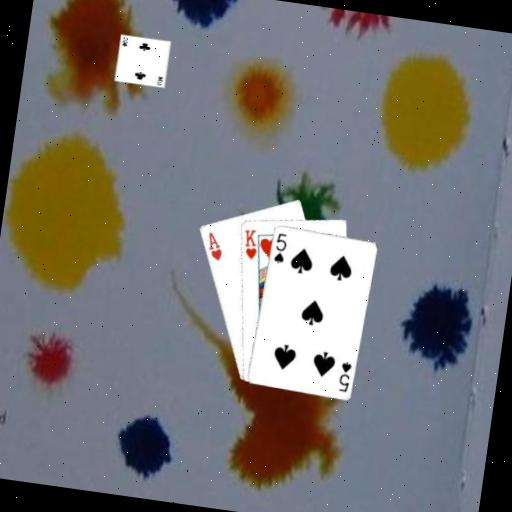5S: (270, 229, 290, 265), (334, 358, 354, 394)
AH: (202, 229, 226, 263)
KH: (238, 225, 261, 261)
